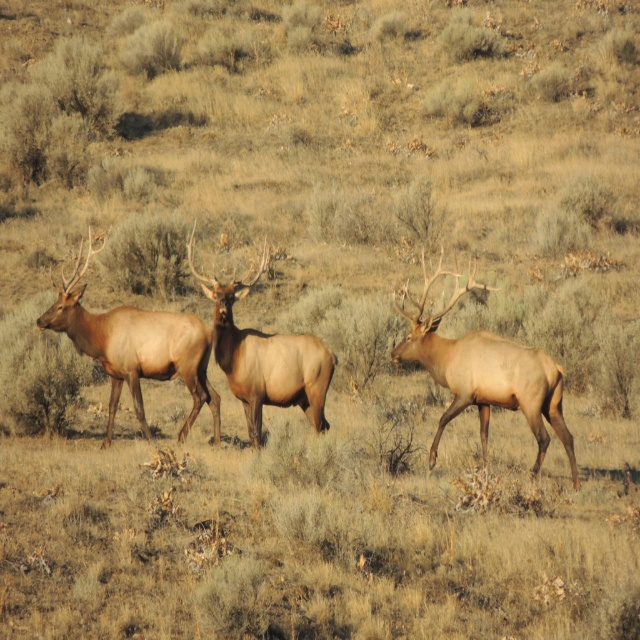Deer: (391, 243, 582, 492), (37, 225, 221, 449), (186, 217, 337, 450)
